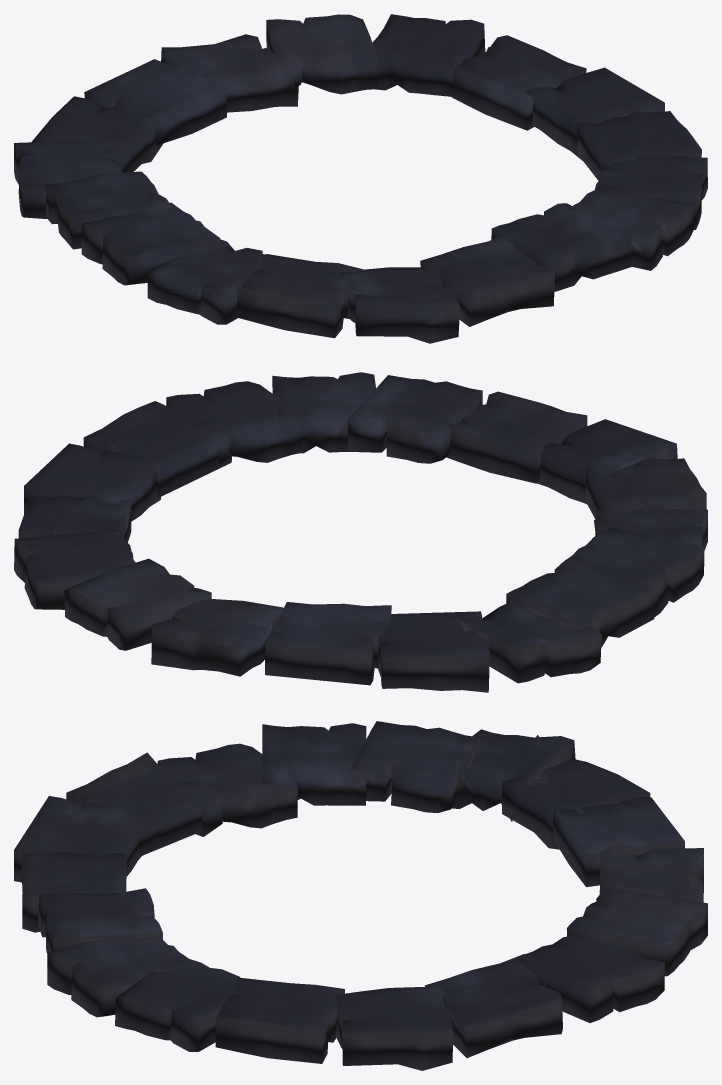
The model's file is outer_floor.dae.
The picture shows the model from 3 angles, top to bottom: view 1: azimuth 30°, elevation 25°; view 2: azimuth 150°, elevation 25°; view 3: azimuth 270°, elevation 25°; orthographic projection. The views are drawn at different scales.
Visible parts, largest first — view 1: Cube.016; view 2: Cube.016; view 3: Cube.016.
Part boxes in pixels (x1,y1,x2,y2): Cube.016: [14, 14, 707, 343]; Cube.016: [14, 372, 707, 692]; Cube.016: [14, 721, 707, 1070].
Size of the model in its own units: 6.95 by 6.82 by 0.6344.
Materials: 1 (1 with a texture image).
